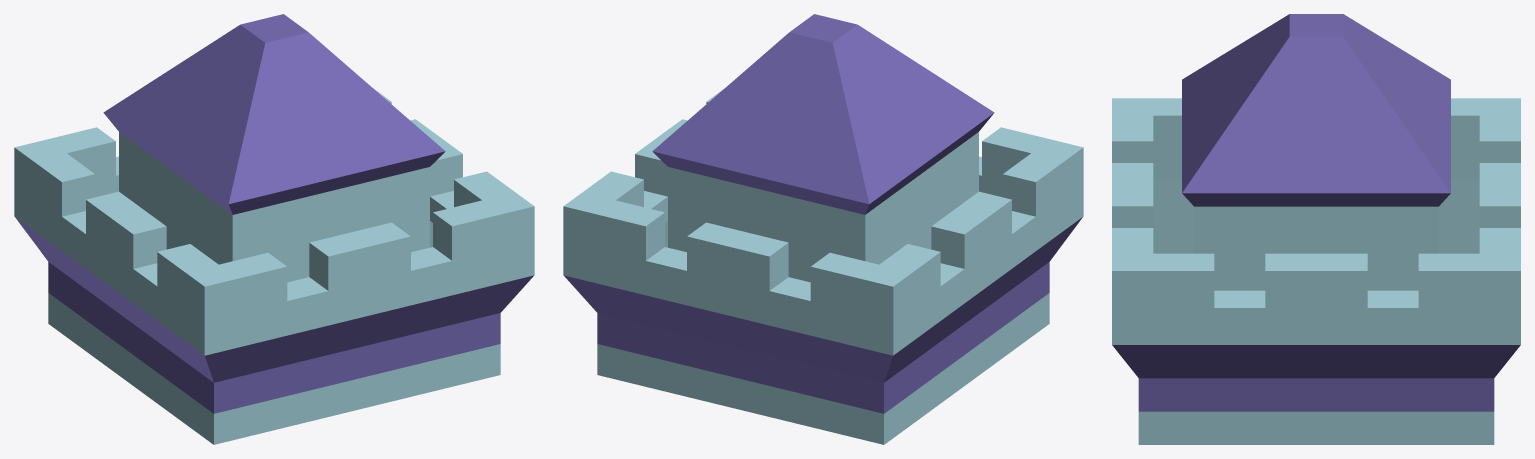
The model's file is towerSquare_roofA.dae.
The picture shows the model from 3 angles, left to right: view 1: azimuth 30°, elevation 25°; view 2: azimuth 150°, elevation 25°; view 3: azimuth 270°, elevation 25°; orthographic projection. The views are drawn at different scales.
Parts seen in each view (by area): view 1: towerSquare_roofA; view 2: towerSquare_roofA; view 3: towerSquare_roofA.
Part boxes in pixels (x1=…): towerSquare_roofA: x1=14, y1=14, x2=534, y2=444; towerSquare_roofA: x1=563, y1=14, x2=1083, y2=444; towerSquare_roofA: x1=1112, y1=14, x2=1520, y2=444.
Size of the model in its own units: 1 by 0.93 by 1.
